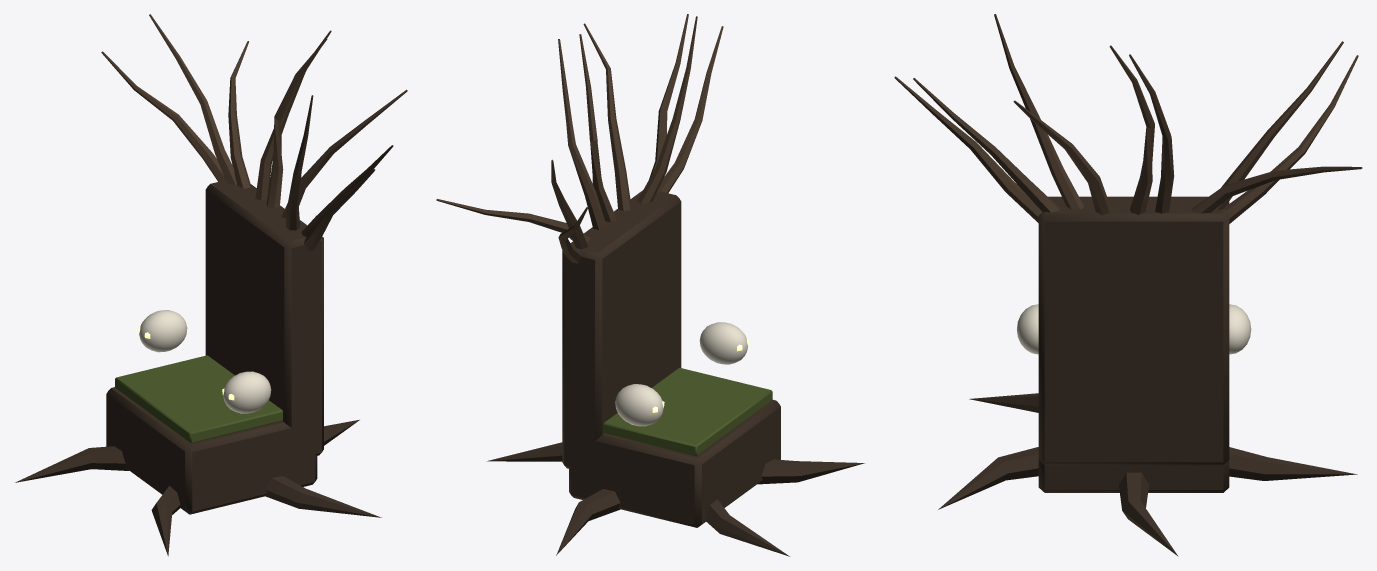
Rendered from erlthrone.glb.
The picture shows the model from 3 angles, left to right: view 1: azimuth 30°, elevation 25°; view 2: azimuth 150°, elevation 25°; view 3: azimuth 270°, elevation 25°; orthographic projection. The views are drawn at different scales.
Parts seen in each view (by area): view 1: building; view 2: building; view 3: building.
Part boxes in pixels (left/top/right/bottom): building: left=15, top=14, right=407, bottom=556; building: left=436, top=14, right=864, bottom=556; building: left=894, top=14, right=1362, bottom=556.
Size of the model in its own units: 2.46 by 3.03 by 2.7.
